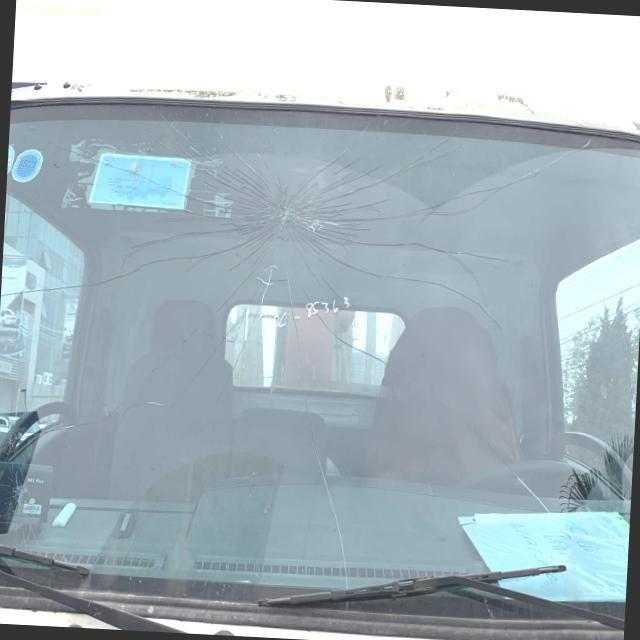Fissure: (337, 131, 609, 269), (122, 109, 232, 226), (225, 166, 344, 272), (176, 258, 280, 378)
